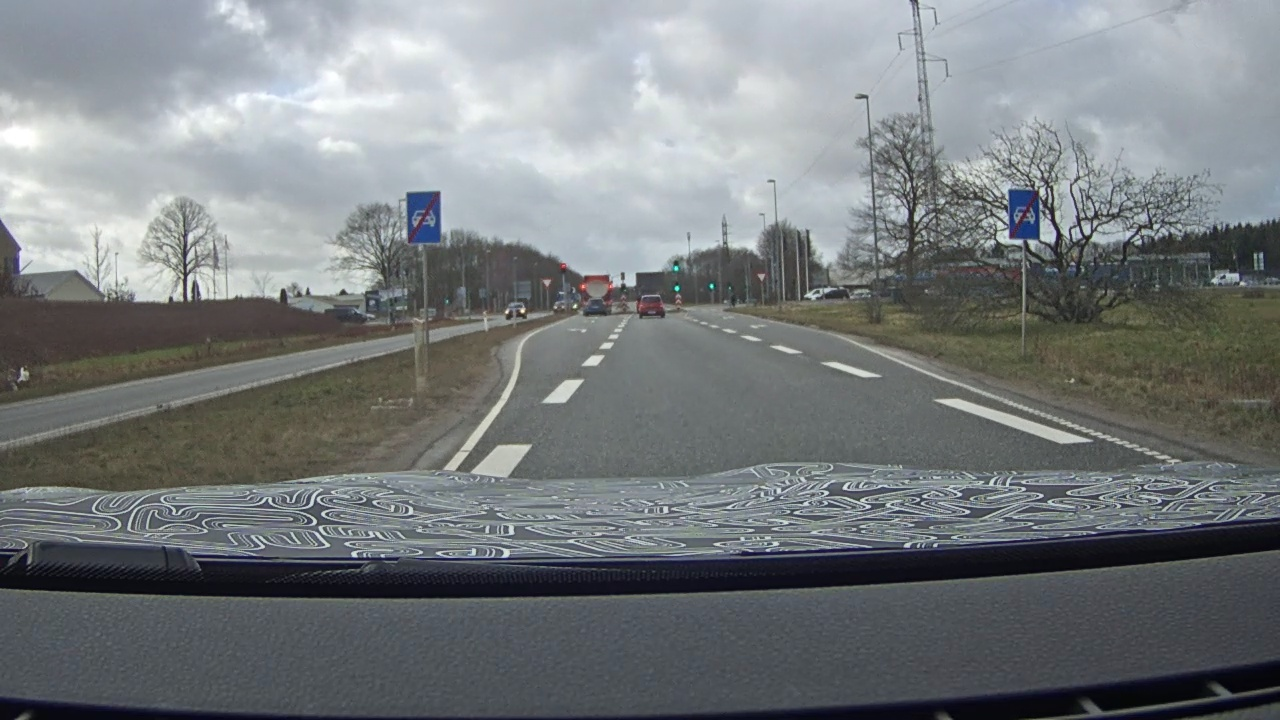Expressway_End: (406, 191, 442, 245), (1007, 187, 1041, 241)
